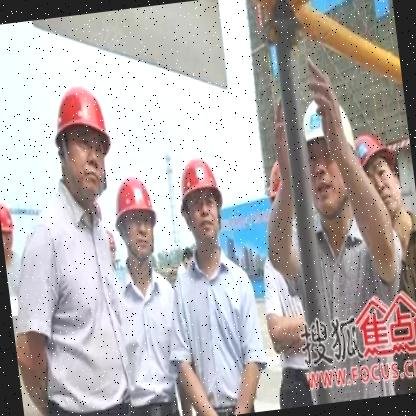capacete: (290, 89, 365, 223), (46, 78, 118, 217), (171, 153, 229, 250), (350, 128, 407, 222), (109, 173, 161, 265), (0, 200, 20, 260)
sem_colete_refletivo: (8, 174, 139, 415), (283, 203, 415, 405), (153, 242, 273, 415), (110, 256, 192, 415), (371, 208, 415, 394)
